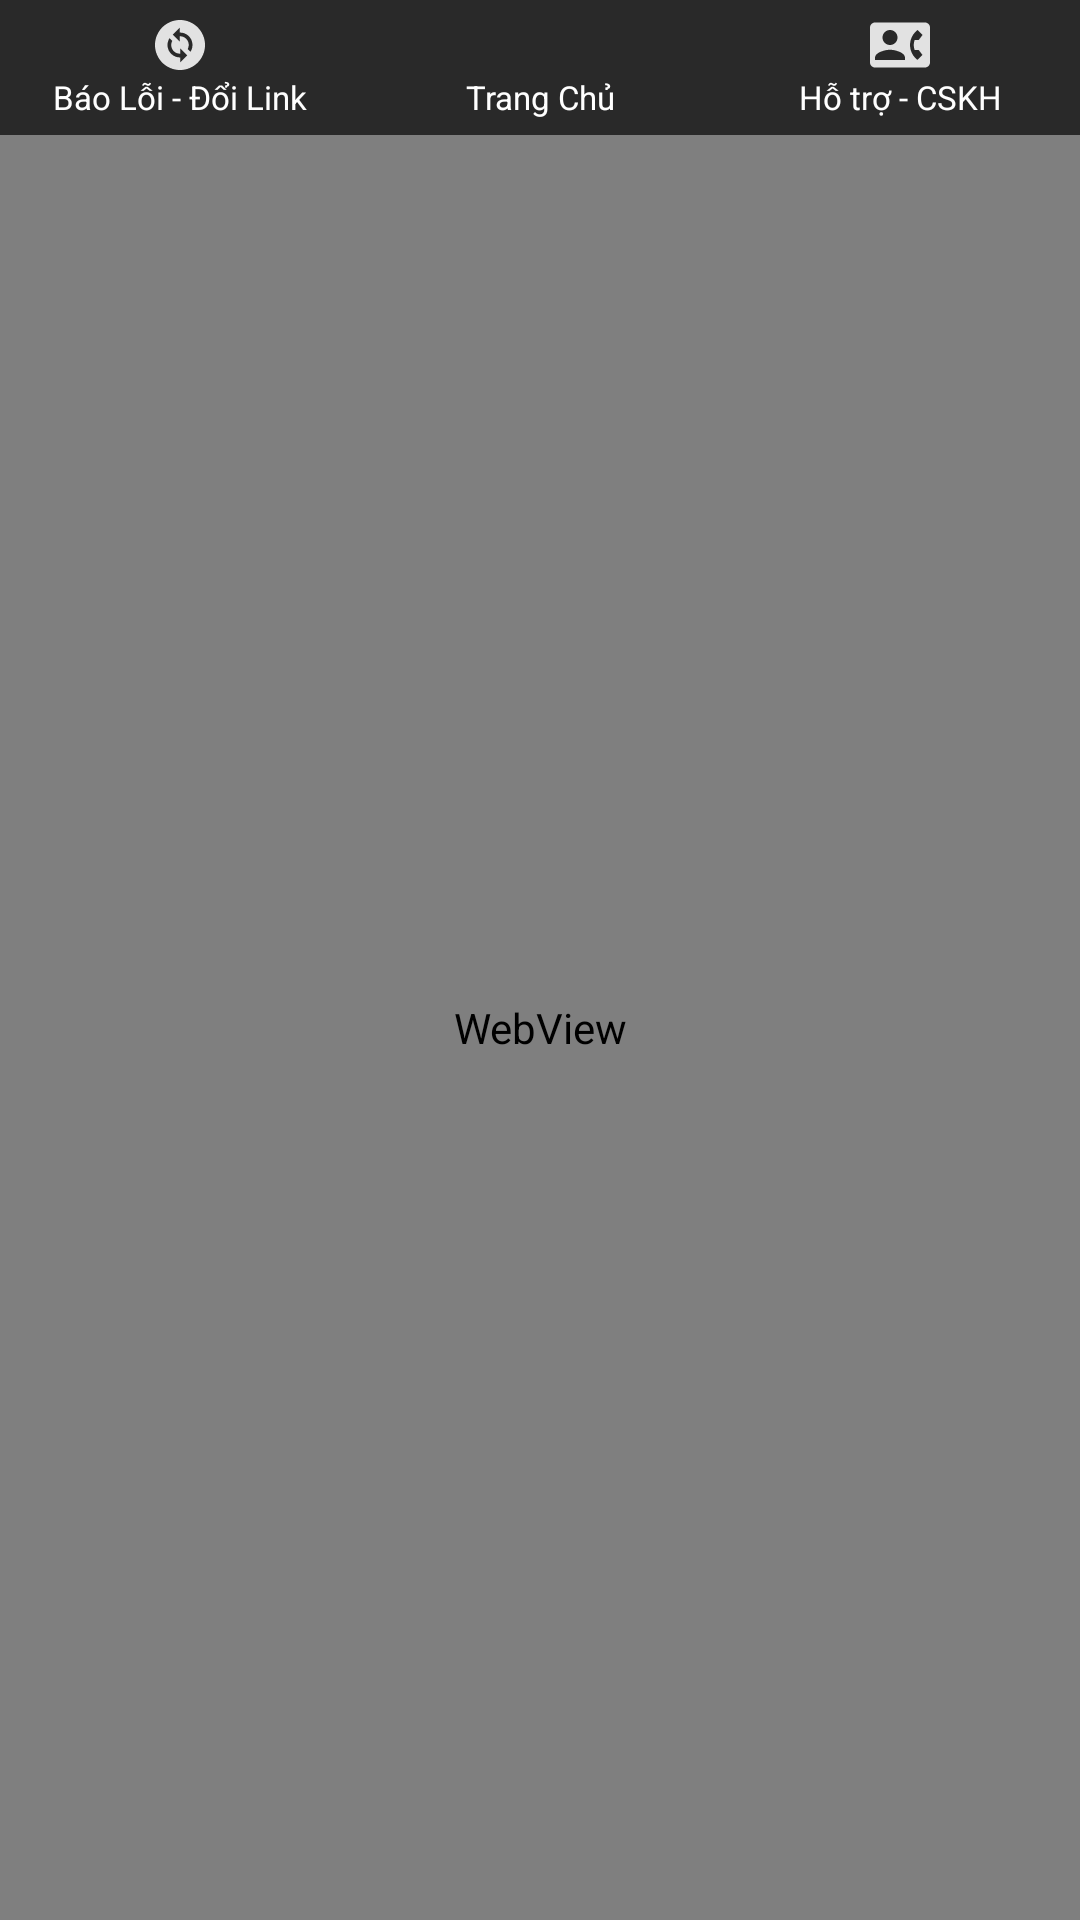

Icons on this 1080px x 1920px Android screen, each with the point to tap as (x,y):
change circle: (180,45)
contact phone: (900,45)
